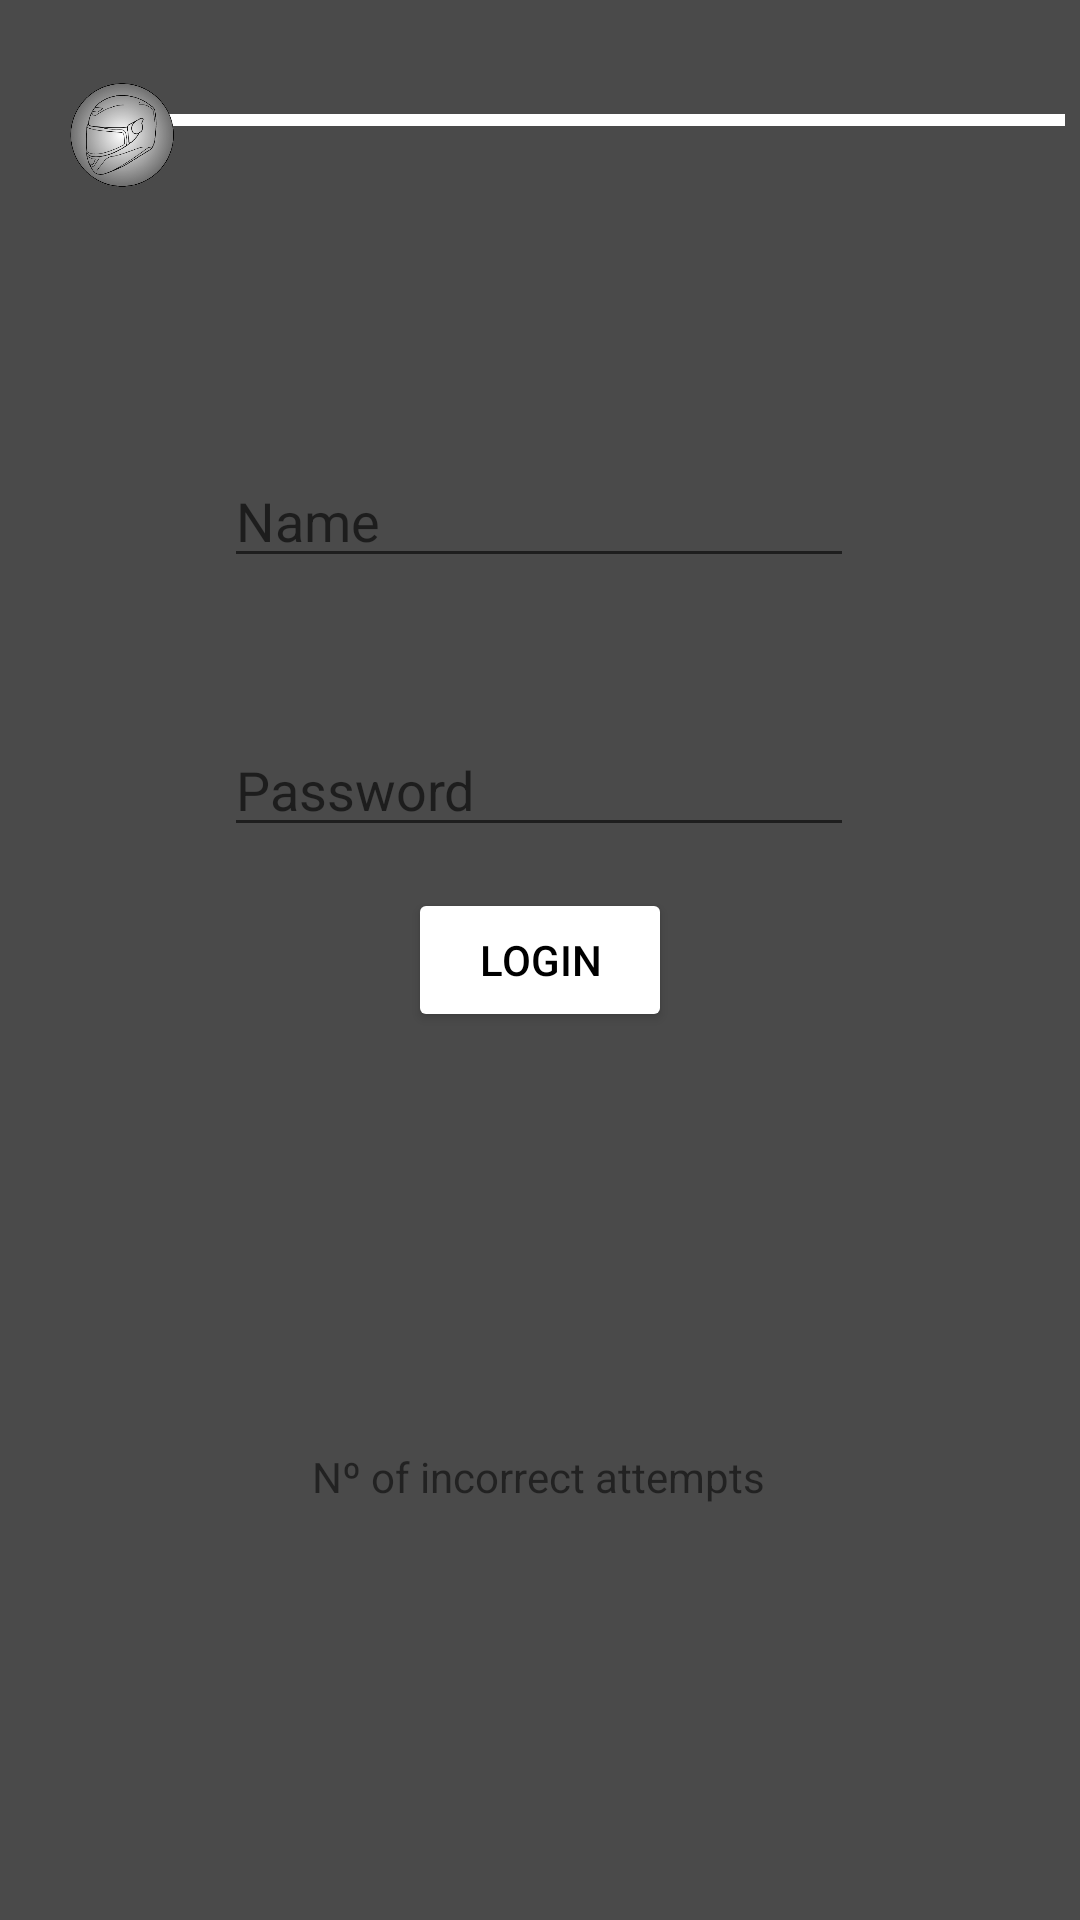

Icons on this 1080*1920 Android screen, each with the point to tap as (x,y):
capacet: (143,135)
